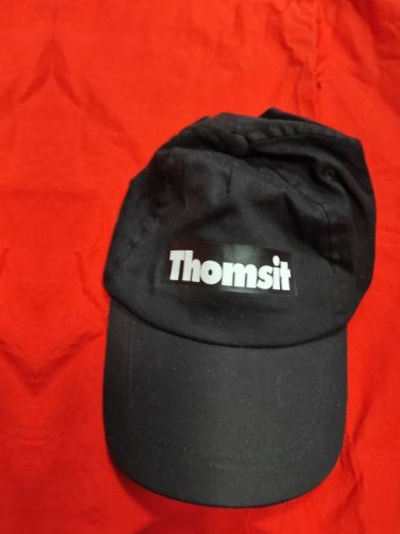Hat: (48, 58, 382, 512), (0, 39, 33, 493), (22, 532, 356, 534), (0, 514, 8, 534)
